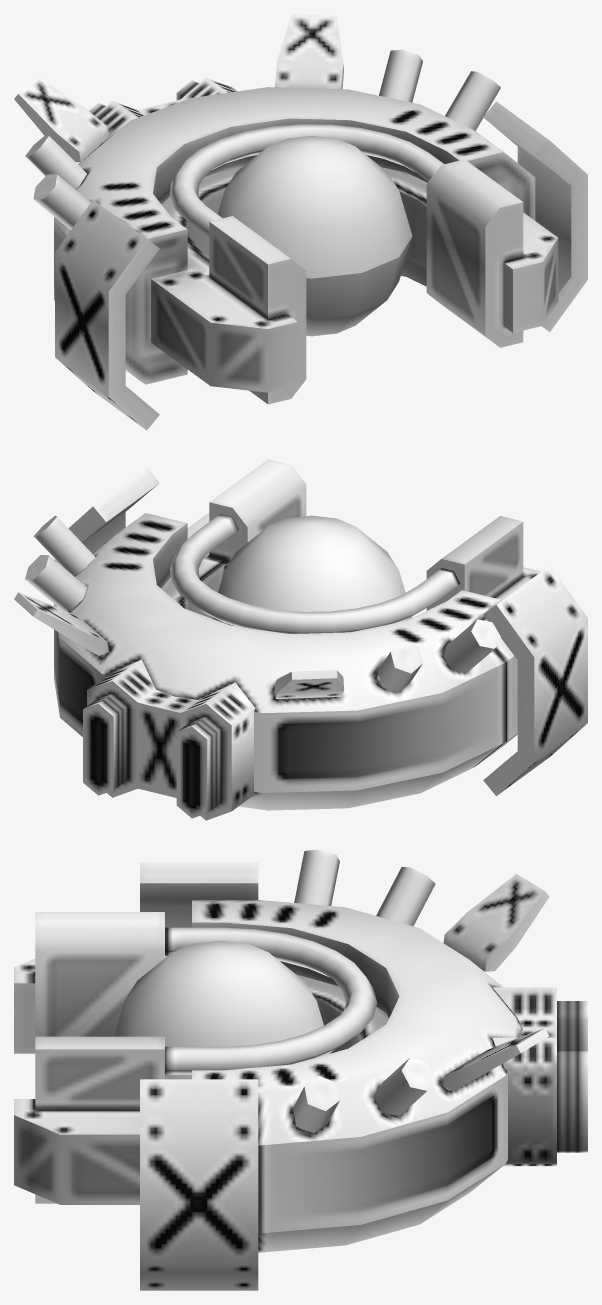
The model's file is Enemy_TeslaGun.FBX.
3 views of the same model, one above another, from view 1: azimuth 30°, elevation 25°; view 2: azimuth 150°, elevation 25°; view 3: azimuth 270°, elevation 25° (orthographic). The views are drawn at different scales.
Parts seen in each view (by area): view 1: Enemy_TeslaGun, Enemy_TeslaGun_Up_Armor, Enemy_TeslaGun_Up_Gun; view 2: Enemy_TeslaGun, Enemy_TeslaGun_Up_Armor, Enemy_TeslaGun_Up_Gun, Enemy_TeslaGun_Up_Speed; view 3: Enemy_TeslaGun, Enemy_TeslaGun_Up_Armor, Enemy_TeslaGun_Up_Gun, Enemy_TeslaGun_Up_Speed.
Boxes of the visible parts, left/top/right/bottom form: Enemy_TeslaGun: left=14, top=14, right=558, bottom=392; Enemy_TeslaGun_Up_Armor: left=55, top=101, right=587, bottom=430; Enemy_TeslaGun_Up_Gun: left=209, top=159, right=523, bottom=404; Enemy_TeslaGun: left=14, top=513, right=540, bottom=820; Enemy_TeslaGun_Up_Armor: left=55, top=467, right=587, bottom=795; Enemy_TeslaGun_Up_Gun: left=209, top=459, right=523, bottom=610; Enemy_TeslaGun_Up_Speed: left=83, top=693, right=221, bottom=818; Enemy_TeslaGun: left=14, top=849, right=556, bottom=1252; Enemy_TeslaGun_Up_Armor: left=140, top=862, right=258, bottom=1290; Enemy_TeslaGun_Up_Gun: left=35, top=912, right=164, bottom=1203; Enemy_TeslaGun_Up_Speed: left=557, top=1001, right=587, bottom=1152.
Bounding box in the file's own units: 141 × 59.13 × 133.
